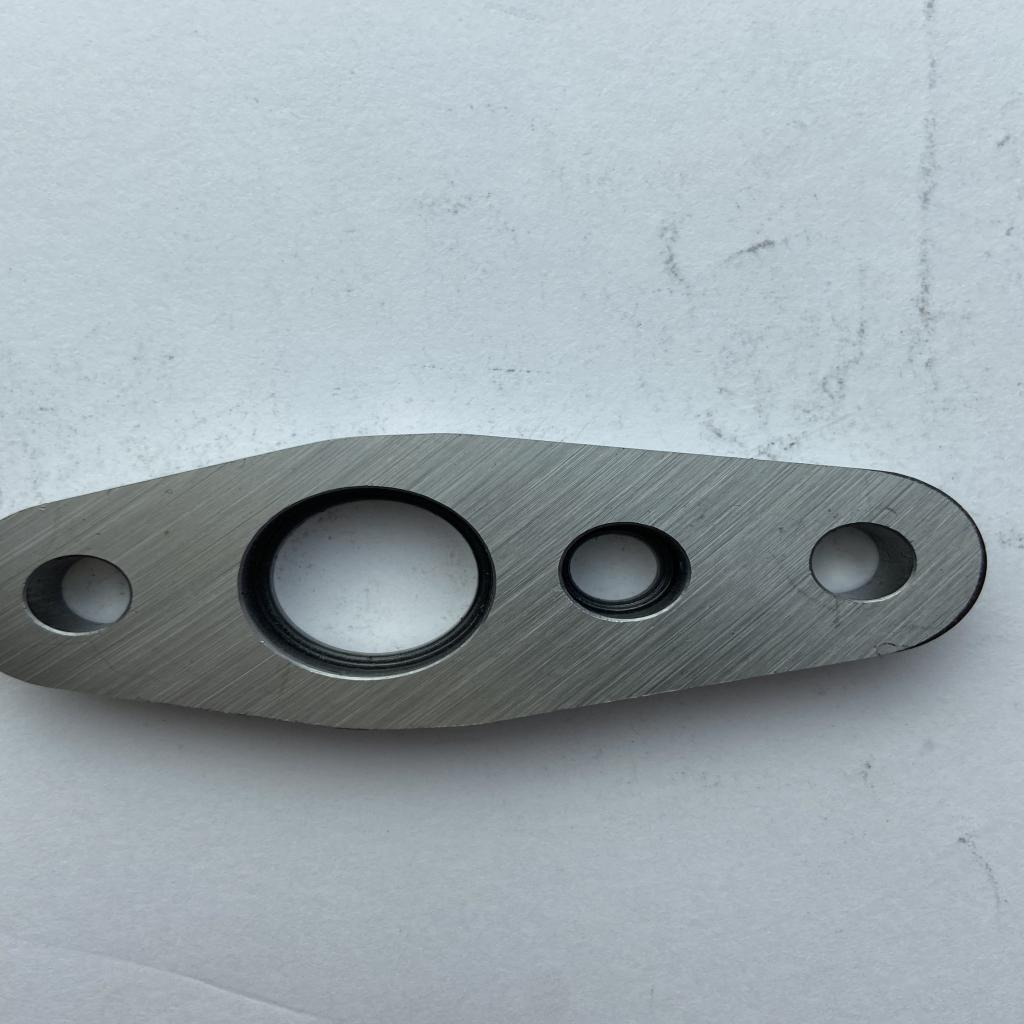chap: (37, 504, 52, 512)
lines: (806, 590, 844, 628), (863, 496, 904, 518), (870, 638, 898, 654)
